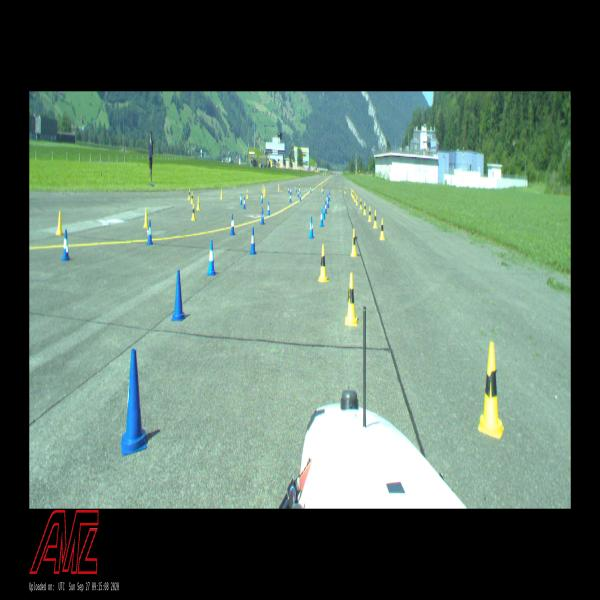blue_cone: (121, 349, 147, 456), (170, 270, 186, 322), (206, 239, 216, 276), (61, 229, 70, 261), (249, 227, 257, 255), (147, 220, 153, 245), (308, 216, 314, 238), (230, 214, 235, 236), (260, 208, 265, 224), (320, 209, 324, 227), (322, 205, 326, 220), (242, 196, 246, 209), (267, 201, 270, 216), (324, 200, 327, 213), (289, 191, 292, 202), (260, 193, 263, 204), (322, 184, 325, 195), (240, 193, 242, 205), (328, 189, 330, 201), (327, 196, 329, 208), (288, 185, 290, 193), (295, 185, 297, 193), (290, 186, 292, 194), (298, 188, 299, 198), (300, 192, 301, 201), (310, 186, 311, 194)
yellow_cone: (478, 340, 504, 441), (344, 272, 358, 326), (318, 245, 329, 282), (350, 228, 358, 258), (56, 212, 63, 236), (143, 206, 149, 228), (191, 202, 196, 221), (373, 210, 378, 229), (380, 219, 384, 240), (368, 206, 372, 222), (363, 201, 367, 216), (196, 195, 200, 210), (188, 186, 191, 202), (220, 188, 223, 199), (191, 191, 193, 204), (360, 198, 362, 210), (321, 183, 323, 194), (263, 188, 265, 199), (264, 185, 266, 196), (262, 183, 264, 194), (246, 189, 248, 199), (356, 195, 358, 205), (354, 194, 356, 203), (352, 189, 354, 198), (278, 183, 280, 192), (344, 186, 346, 194), (353, 191, 355, 199), (298, 184, 300, 192)
